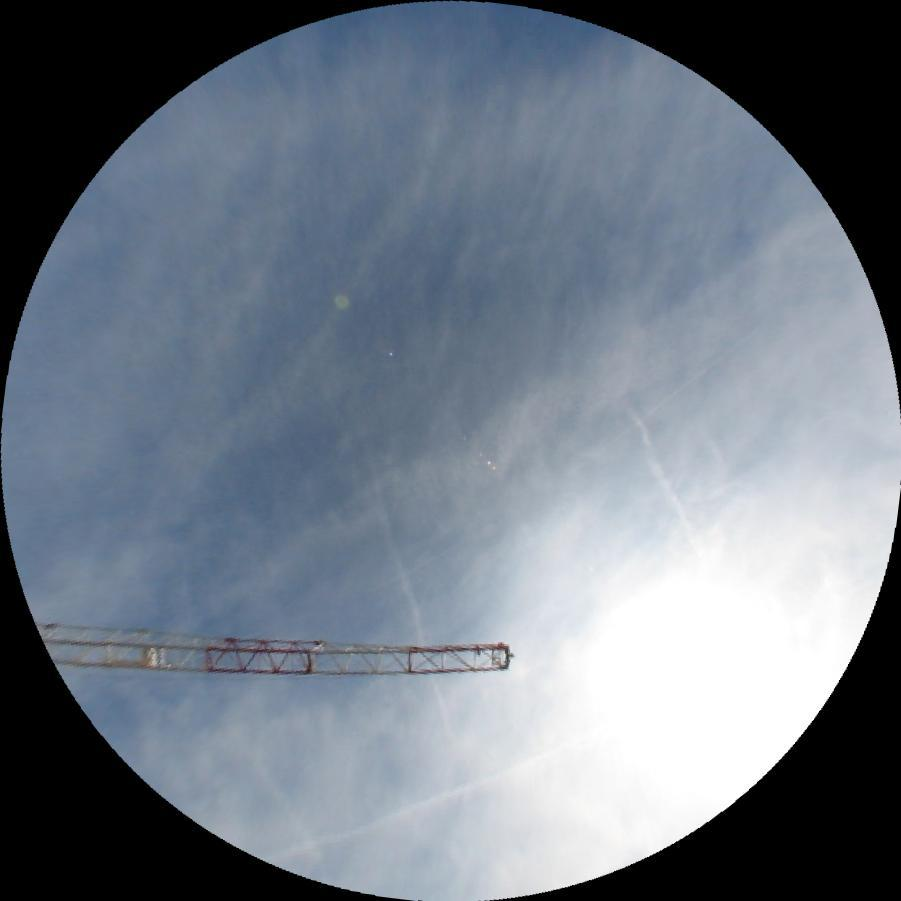contrail young: (245, 323, 783, 664)
